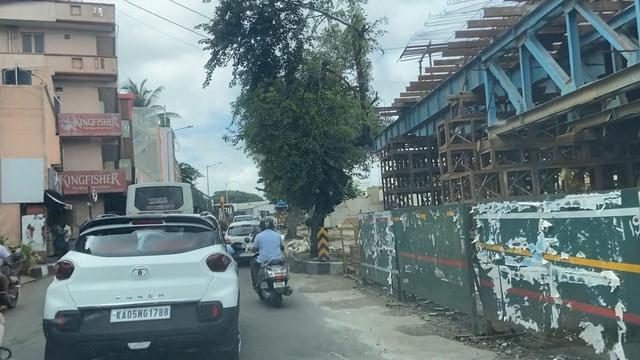LMV: (50, 226, 223, 337), (250, 218, 290, 297)
